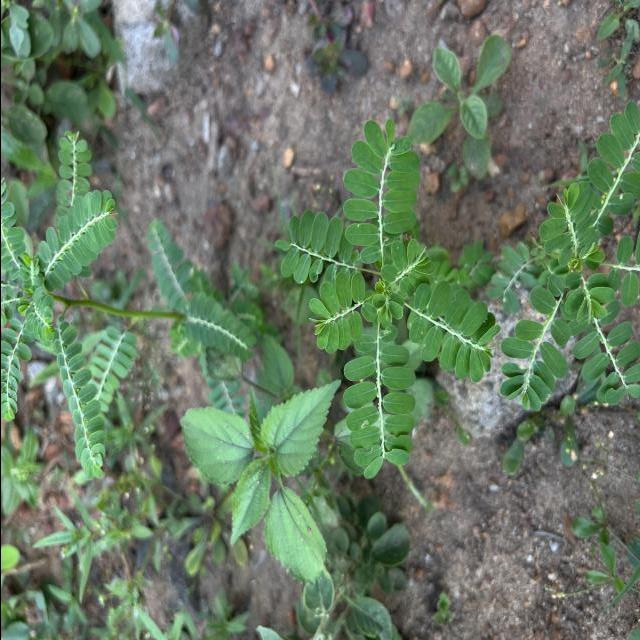Phyllanthus niruri: (338, 118, 418, 270), (338, 332, 416, 482), (496, 278, 570, 421), (404, 277, 500, 386), (32, 185, 118, 294), (54, 313, 108, 479), (579, 108, 640, 233), (306, 268, 374, 357), (270, 207, 342, 289), (536, 178, 602, 266)
